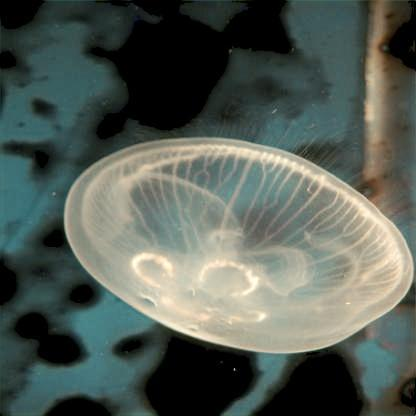Speckle: (57, 140, 415, 351)
